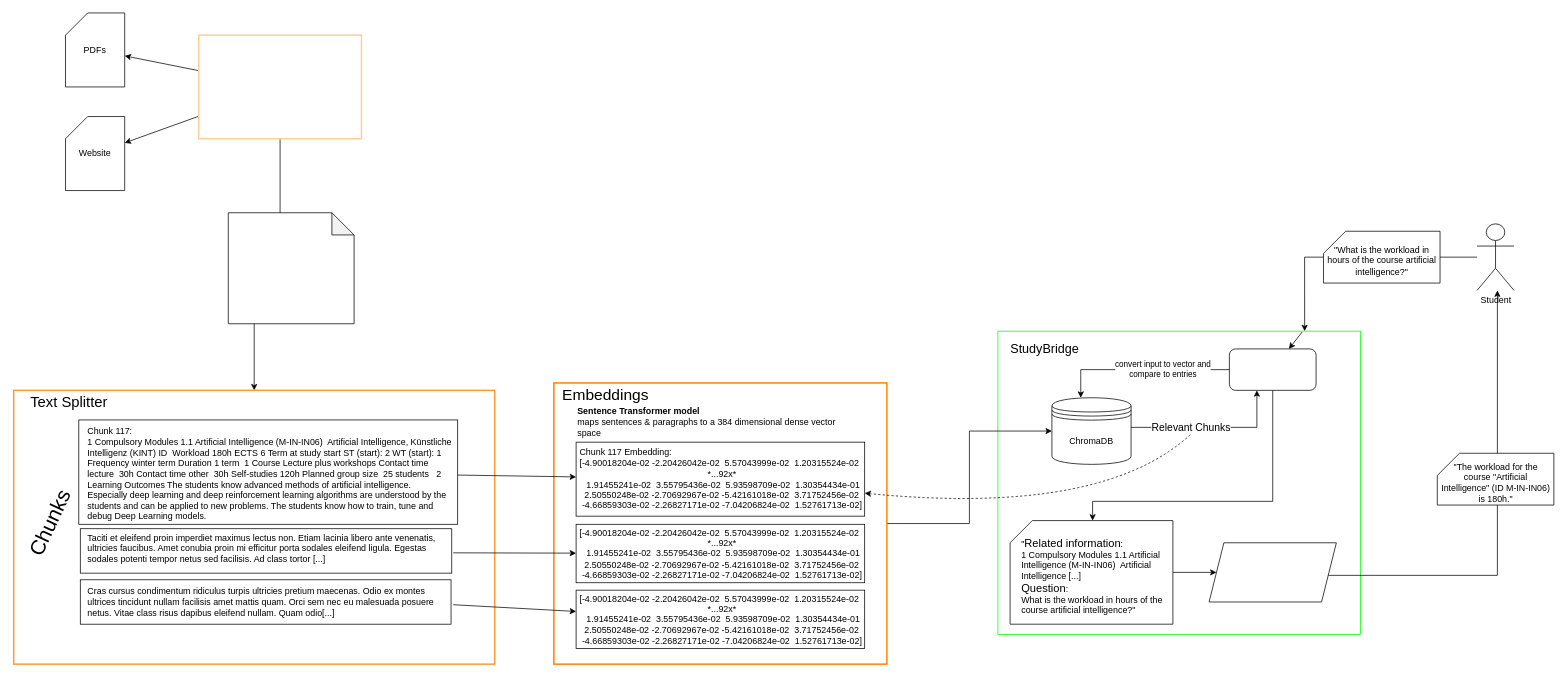
Image size: 1567x678. Some labels were removed from this diagram. Each missing label, with the centre of its shape:
ChromaDB-Client: (x=1272, y=369)
Document Loader: (x=280, y=86)
MistralLLM: (x=1272, y=572)
Page Content + Metadata (document location, ...): (x=291, y=268)
